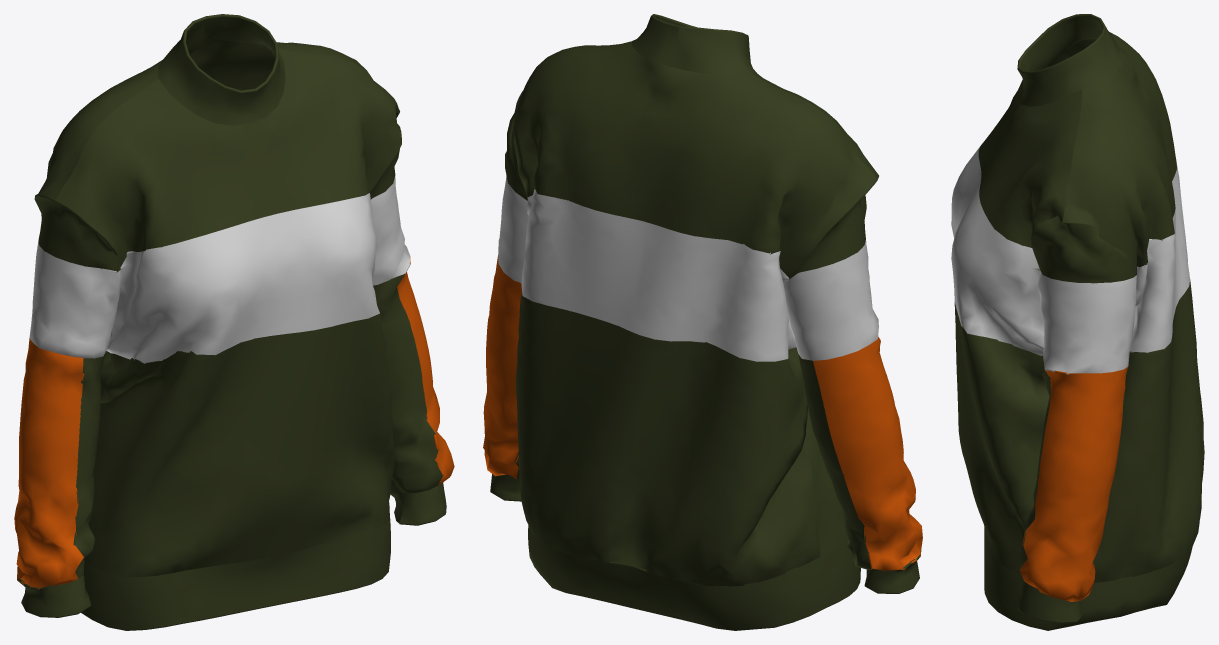
The picture shows the model from 3 angles, left to right: view 1: azimuth 30°, elevation 25°; view 2: azimuth 150°, elevation 25°; view 3: azimuth 270°, elevation 25°; orthographic projection. The views are drawn at different scales.
Parts seen in each view (by area): view 1: Pattern2D_3692580, Pattern2D_3627920, Pattern2D_3628178, Pattern2D_3817910, Pattern2D_3648941, Pattern2D_3634939, Pattern2D_3637876, Pattern2D_3739184, Pattern2D_3741299, Pattern2D_3648891, Pattern2D_3630701, Pattern2D_3638224 (+3 smaller); view 2: Pattern2D_3692761, Pattern2D_3634939, Pattern2D_3635177, Pattern2D_3817910, Pattern2D_3648941, Pattern2D_3637876, Pattern2D_3741476, Pattern2D_3739184, Pattern2D_3648309, Pattern2D_3692580, Pattern2D_3630701, Pattern2D_3638224 (+4 smaller); view 3: Pattern2D_3692761, Pattern2D_3634939, Pattern2D_3741476, Pattern2D_3692580, Pattern2D_3627920, Pattern2D_3628178, Pattern2D_3638224, Pattern2D_3739184, Pattern2D_3817910, Pattern2D_3635177, Pattern2D_3631058, Pattern2D_3742323 (+1 smaller).
Part boxes in pixels (x1,y1,x2,y2): Pattern2D_3692580: (84,313,394,577); Pattern2D_3627920: (55,48,401,267); Pattern2D_3628178: (106,193,379,363); Pattern2D_3817910: (81,514,390,630); Pattern2D_3648941: (14,338,84,589); Pattern2D_3634939: (34,38,399,203); Pattern2D_3637876: (29,240,120,358); Pattern2D_3739184: (158,14,285,125); Pattern2D_3741299: (373,274,443,493); Pattern2D_3648891: (73,353,105,578); Pattern2D_3630701: (35,194,120,272); Pattern2D_3638224: (371,176,410,285); Pattern2D_3692761: (515,293,820,586); Pattern2D_3634939: (511,41,876,278); Pattern2D_3635177: (521,189,796,361); Pattern2D_3817910: (528,525,860,630); Pattern2D_3648941: (813,336,922,570); Pattern2D_3637876: (783,240,878,360); Pattern2D_3741476: (483,255,521,479); Pattern2D_3739184: (631,14,757,74); Pattern2D_3648309: (798,354,872,570); Pattern2D_3692580: (803,408,848,556); Pattern2D_3630701: (789,176,878,278); Pattern2D_3638224: (498,175,528,282); Pattern2D_3692761: (1093,279,1204,582); Pattern2D_3634939: (1062,32,1176,270); Pattern2D_3741476: (1020,367,1127,601); Pattern2D_3692580: (954,302,1049,573); Pattern2D_3627920: (978,45,1082,255); Pattern2D_3628178: (951,146,1044,355); Pattern2D_3638224: (1038,271,1136,374); Pattern2D_3739184: (1017,14,1124,106); Pattern2D_3817910: (984,525,1192,630); Pattern2D_3635177: (1130,164,1189,352); Pattern2D_3631058: (1030,215,1136,283); Pattern2D_3742323: (1017,580,1083,623).
Size of the model in its own units: 57.86 by 72.42 by 31.01.
